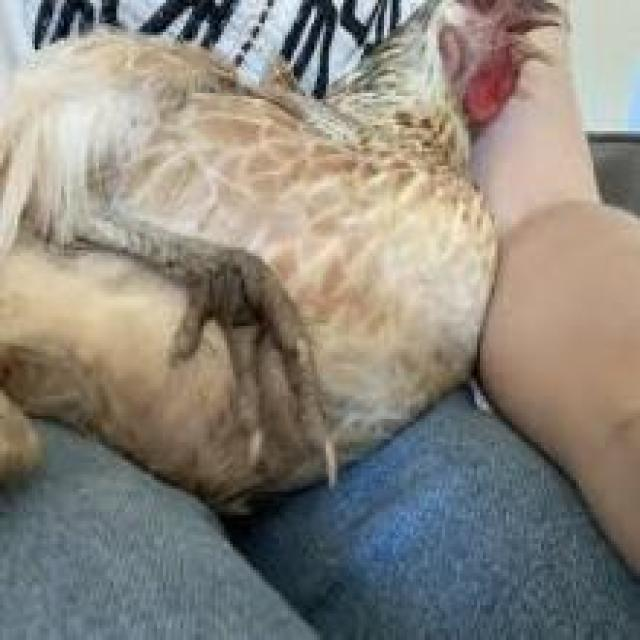Bumble foot: (126, 241, 323, 375)
